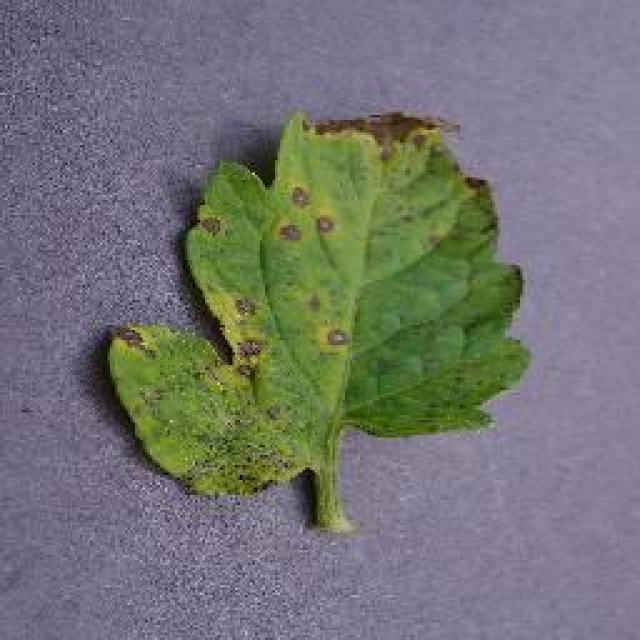Tomato target spot leaf: (104, 110, 531, 505)
